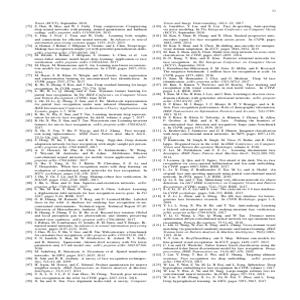text: (151, 20, 280, 284), (24, 18, 149, 285)
